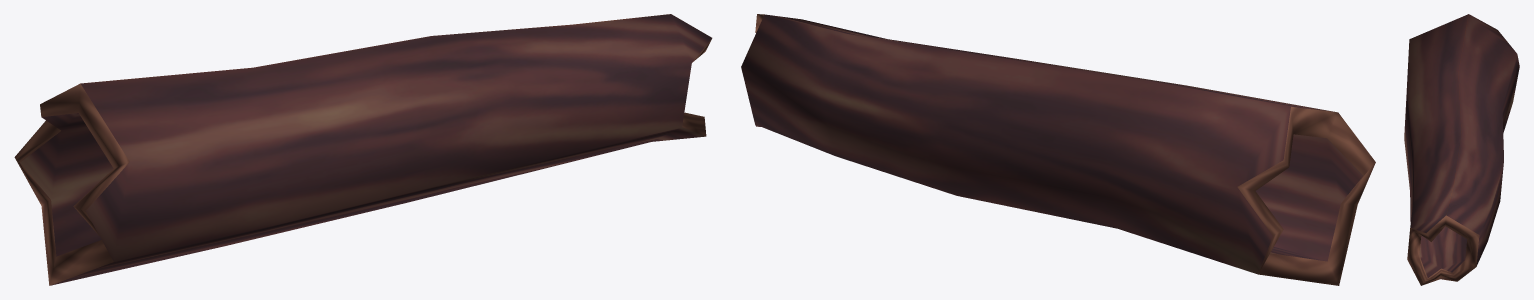
File: log1.glb
3 renders of one model, left to right at view 1: azimuth 30°, elevation 25°; view 2: azimuth 150°, elevation 25°; view 3: azimuth 270°, elevation 25°, orthographic. The views are drawn at different scales.
Visible parts, largest first — view 1: log1; view 2: log1; view 3: log1.
Boxes of the visible parts, x1,y1,x2,y2 form: log1: (14, 14, 712, 285); log1: (741, 14, 1375, 285); log1: (1404, 14, 1519, 285).
Size of the model in its own units: 14.08 by 3.93 by 3.68.
Materials: 1 (1 with a texture image).
